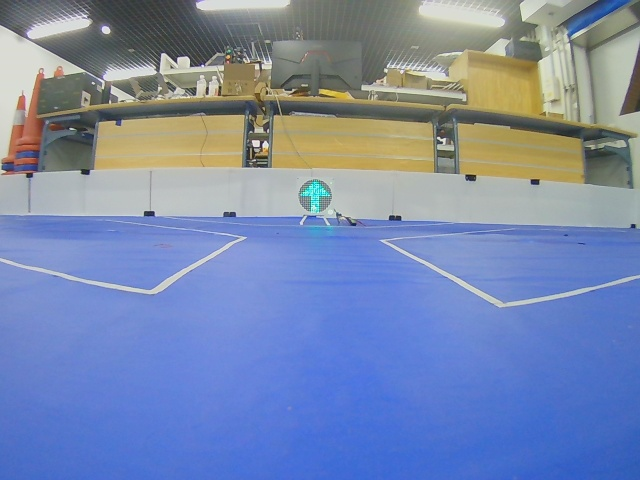straight_green: (298, 179, 332, 214)
